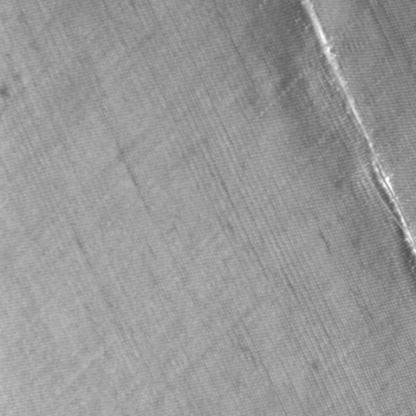hole: (303, 1, 415, 274)
